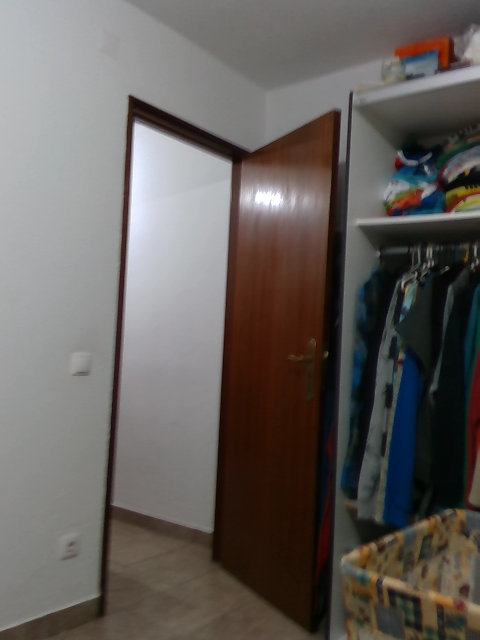open: (105, 89, 347, 628)
